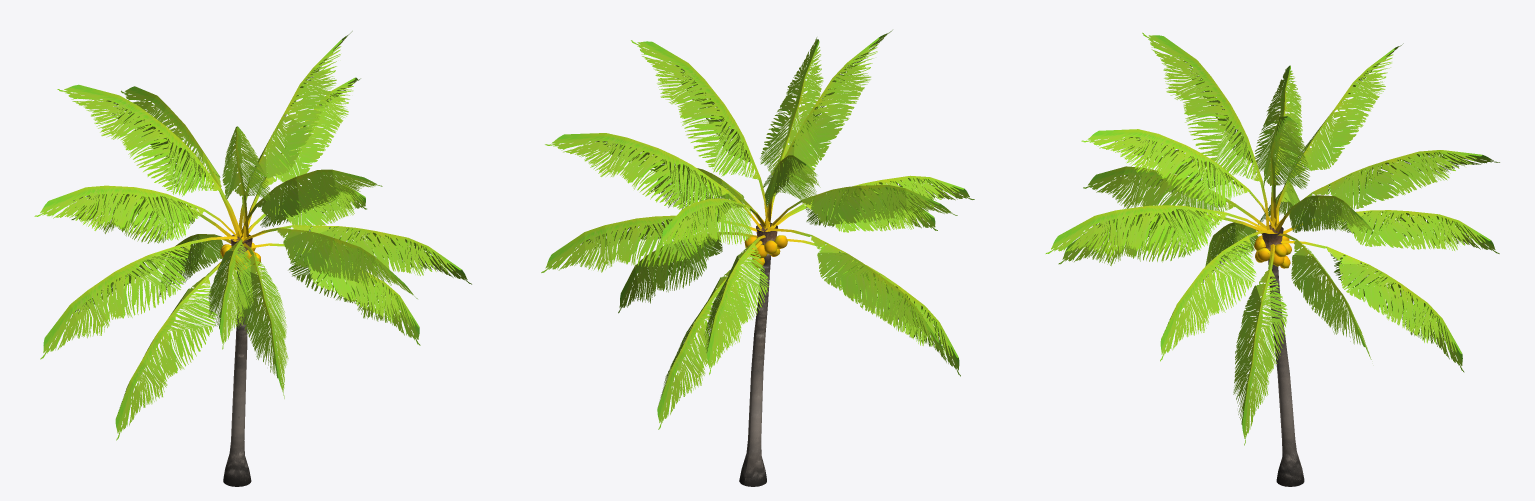
File: palm_tree.fbx
3 views of the same model, side by side, from view 1: azimuth 30°, elevation 25°; view 2: azimuth 150°, elevation 25°; view 3: azimuth 270°, elevation 25° (orthographic).
Parts seen in each view (by area): view 1: palm_tree; view 2: palm_tree; view 3: palm_tree.
Part boxes in pixels (x1,y1,x2,y2): palm_tree: [34, 31, 471, 486]; palm_tree: [541, 30, 974, 486]; palm_tree: [1045, 32, 1499, 486].
Bounding box in the file's own units: 1005 × 1008 × 1055.
